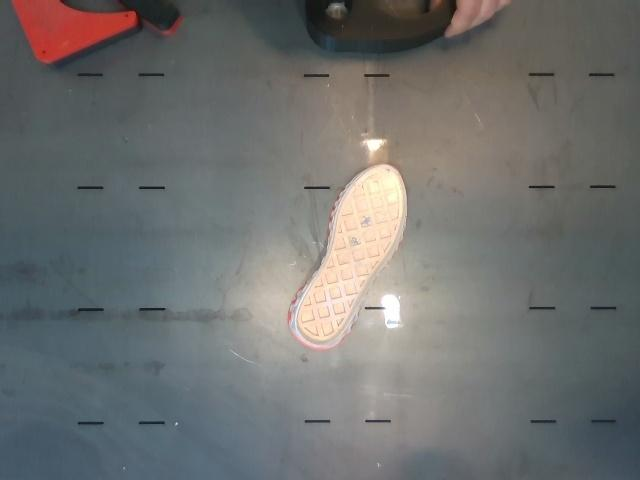shoes: (296, 165, 406, 344)
